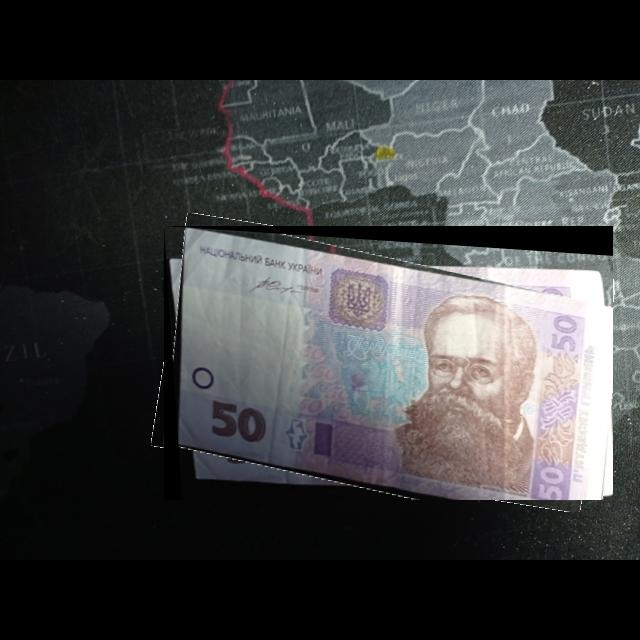50uah: (176, 228, 614, 501)
